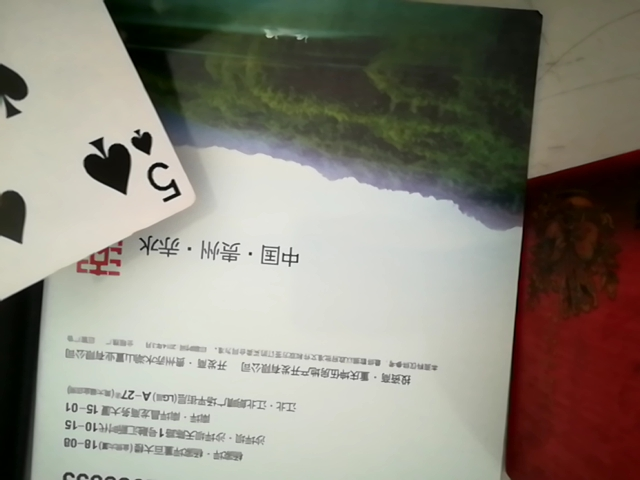ht 5: (1, 0, 195, 341)
